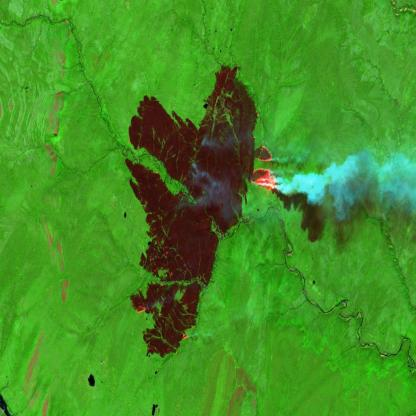fire: (249, 137, 282, 197), (132, 295, 159, 317)
